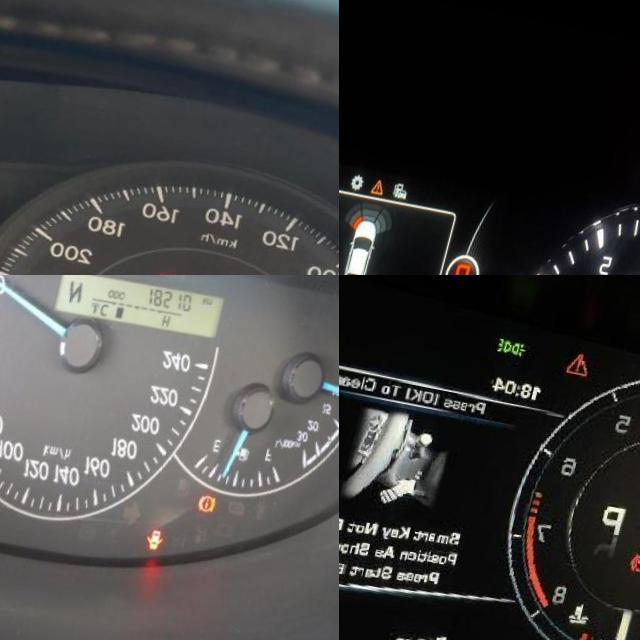Central Warning lamp: (380, 166, 397, 184)
Engine cooling system: (587, 584, 616, 614)
